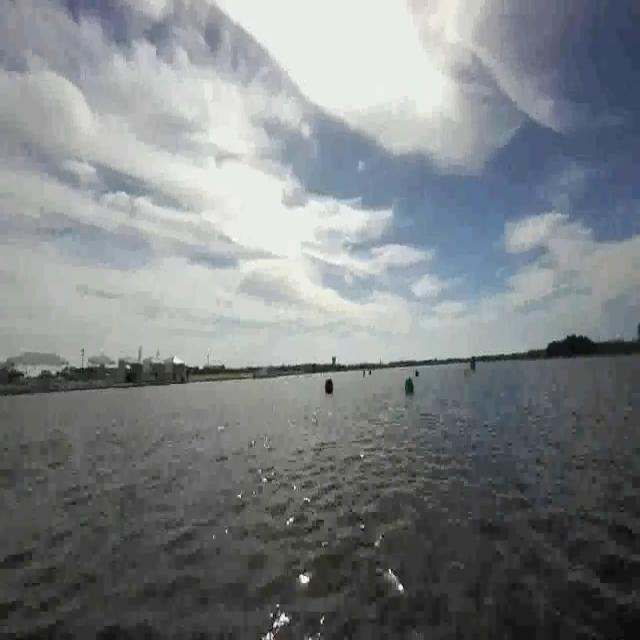black-buoy: (405, 376, 416, 395), (323, 377, 334, 395)
